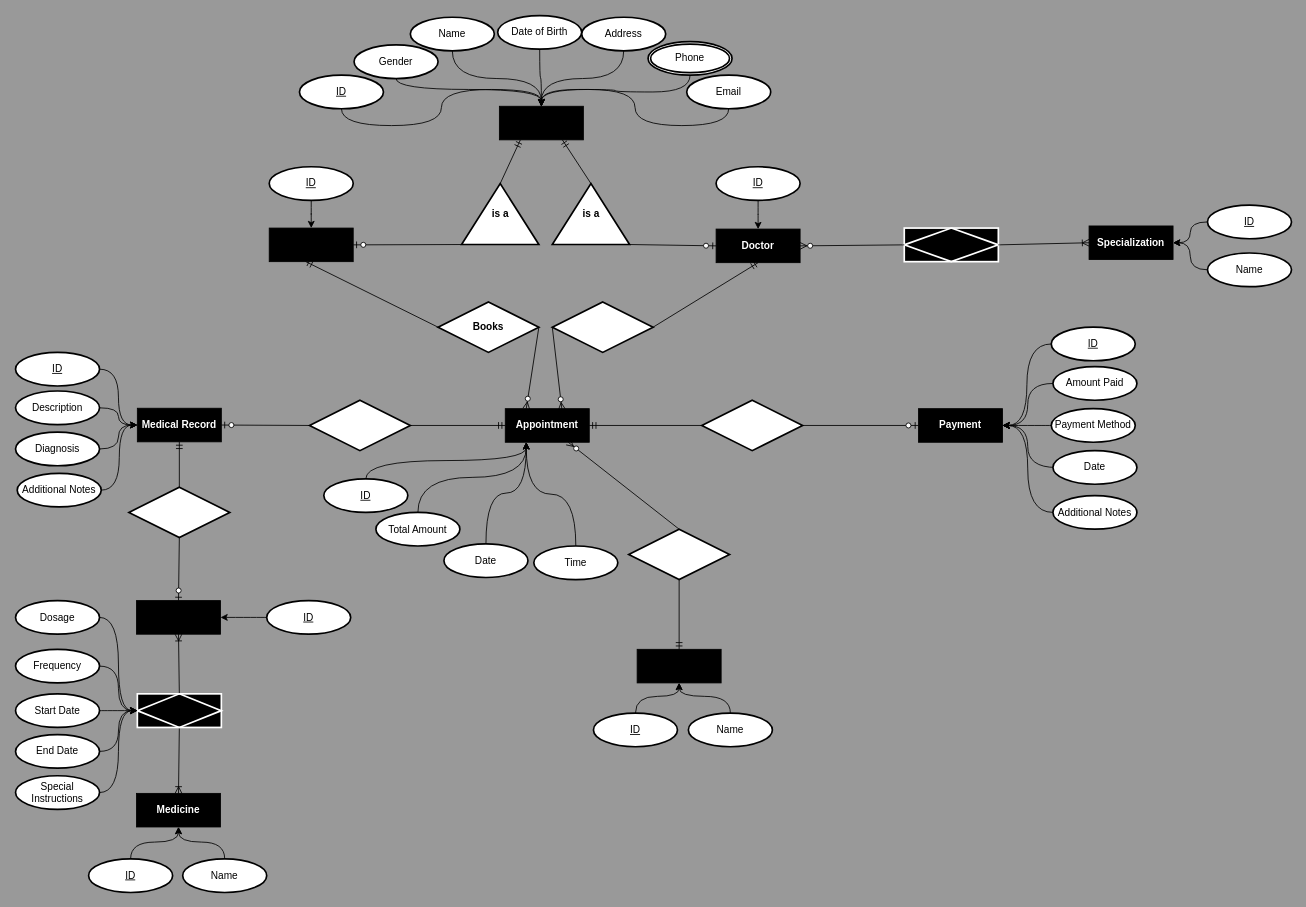
Image size: 1306x907. Some labels were removed from this diagram. Here are the shapes that lost their labels. From the top down, the centre of each, then its label:
pixel 541 122: Person
pixel 310 244: Patient
pixel 951 244: Specializes in
pixel 602 327: Conducts
pixel 359 425: Result in
pixel 752 425: Incurs
pixel 179 512: Include
pixel 678 554: Is in satus
pixel 178 617: Prescription
pixel 678 665: Status
pixel 179 710: Prescribes
